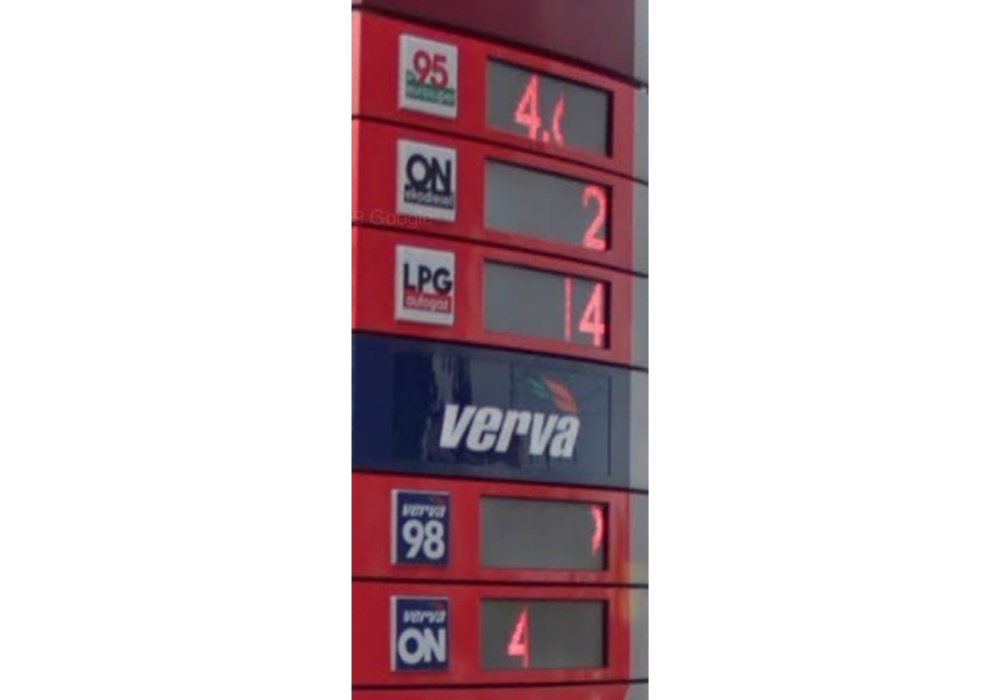LPG: (388, 239, 457, 326)
ON: (394, 136, 457, 221), (385, 593, 449, 672)
PB95: (394, 32, 461, 119)
PB98: (387, 486, 454, 570)
